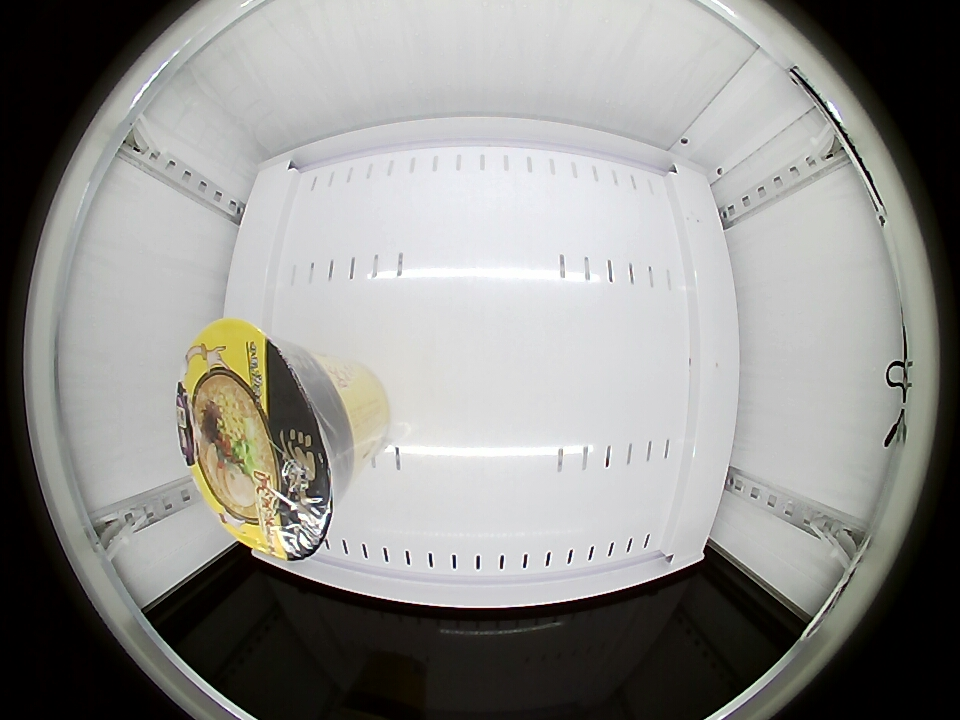tangdaren2: (177, 318, 348, 561)
